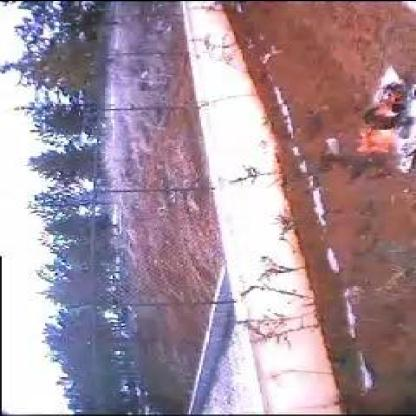-: (347, 156, 381, 170)
foggia-v2-map80-epoch100 - v1 4323: (356, 128, 394, 152)
